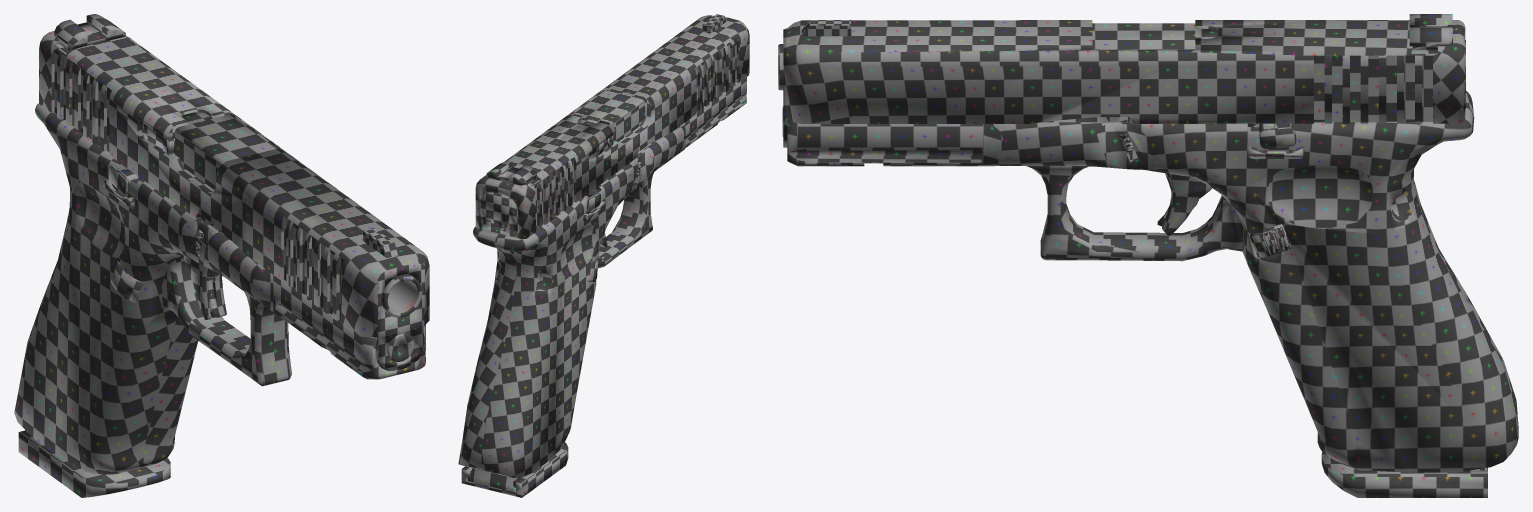
Rendered from pistol.glb.
3 renders of one model, left to right at view 1: azimuth 30°, elevation 25°; view 2: azimuth 150°, elevation 25°; view 3: azimuth 270°, elevation 25°, orthographic. The views are drawn at different scales.
Visible parts, largest first — view 1: handle_low, rail_low, muzzle_low, magazinecase_low, ironsight1_low, barrel_low, trigger_low, t_low, ironsight2_low, CC_low, SS_low; view 2: handle_low, rail_low, muzzle_low, magazinecase_low, baseback_low, ironsight1_low, magazine_low; view 3: handle_low, rail_low, magazinecase_low, muzzle_low, trigger_low, ironsight1_low, b_LOW, CC_low, ironsight2_low.
Boxes of the visible parts, x1=… form: handle_low: x1=14, y1=103, x2=425, y2=474; rail_low: x1=39, y1=31, x2=429, y2=370; muzzle_low: x1=175, y1=112, x2=278, y2=189; magazinecase_low: x1=18, y1=430, x2=170, y2=497; ironsight1_low: x1=54, y1=14, x2=125, y2=50; barrel_low: x1=381, y1=274, x2=422, y2=317; trigger_low: x1=183, y1=255, x2=226, y2=319; t_low: x1=111, y1=261, x2=143, y2=302; ironsight2_low: x1=363, y1=228, x2=397, y2=257; CC_low: x1=108, y1=165, x2=141, y2=194; SS_low: x1=143, y1=123, x2=174, y2=154; handle_low: x1=458, y1=77, x2=746, y2=477; rail_low: x1=475, y1=15, x2=749, y2=238; muzzle_low: x1=572, y1=89, x2=644, y2=141; magazinecase_low: x1=461, y1=442, x2=568, y2=497; baseback_low: x1=480, y1=192, x2=517, y2=231; ironsight1_low: x1=486, y1=161, x2=536, y2=185; magazine_low: x1=468, y1=195, x2=589, y2=492; handle_low: x1=787, y1=91, x2=1518, y2=472; rail_low: x1=782, y1=20, x2=1465, y2=147; magazinecase_low: x1=1321, y1=452, x2=1487, y2=497; muzzle_low: x1=1092, y1=23, x2=1218, y2=49; trigger_low: x1=1162, y1=173, x2=1212, y2=235; ironsight1_low: x1=1409, y1=14, x2=1452, y2=50; b_LOW: x1=1249, y1=223, x2=1291, y2=257; CC_low: x1=1259, y1=123, x2=1296, y2=148; ironsight2_low: x1=801, y1=20, x2=851, y2=36.
Bounding box in the file's own units: 0.2353 × 1.01 × 1.49.
Materials: 1 (1 with a texture image).
